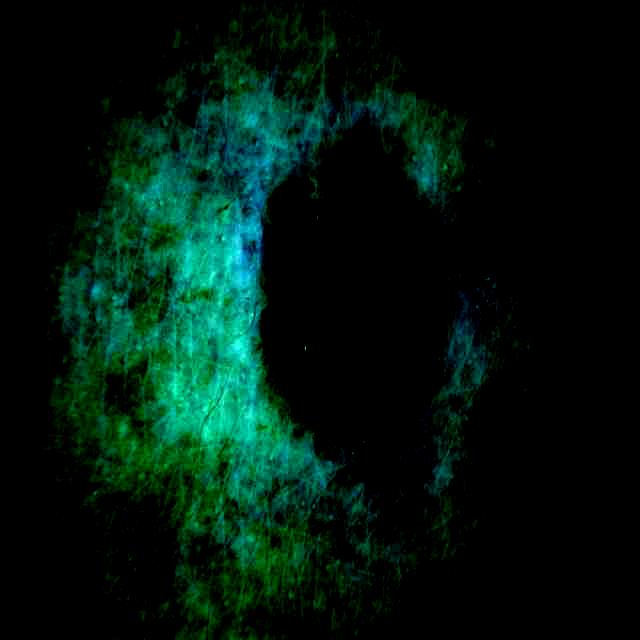BKL: (260, 134, 434, 466)
